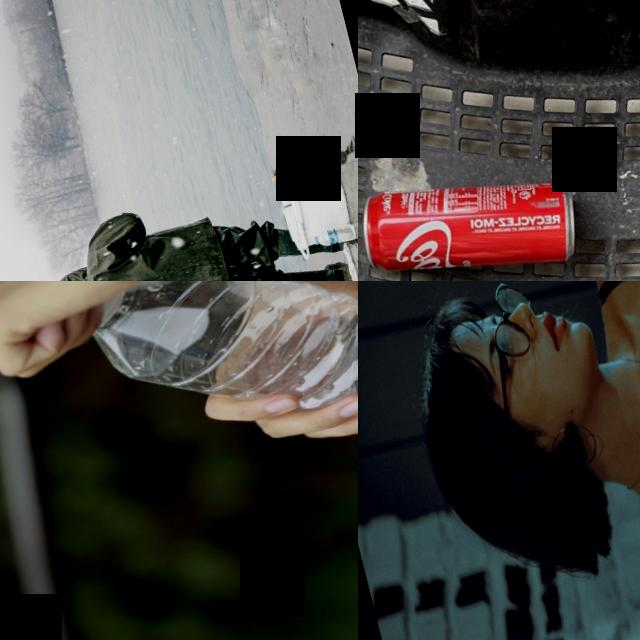bottle: (75, 281, 358, 523), (312, 218, 358, 250)
can: (358, 143, 587, 281)
